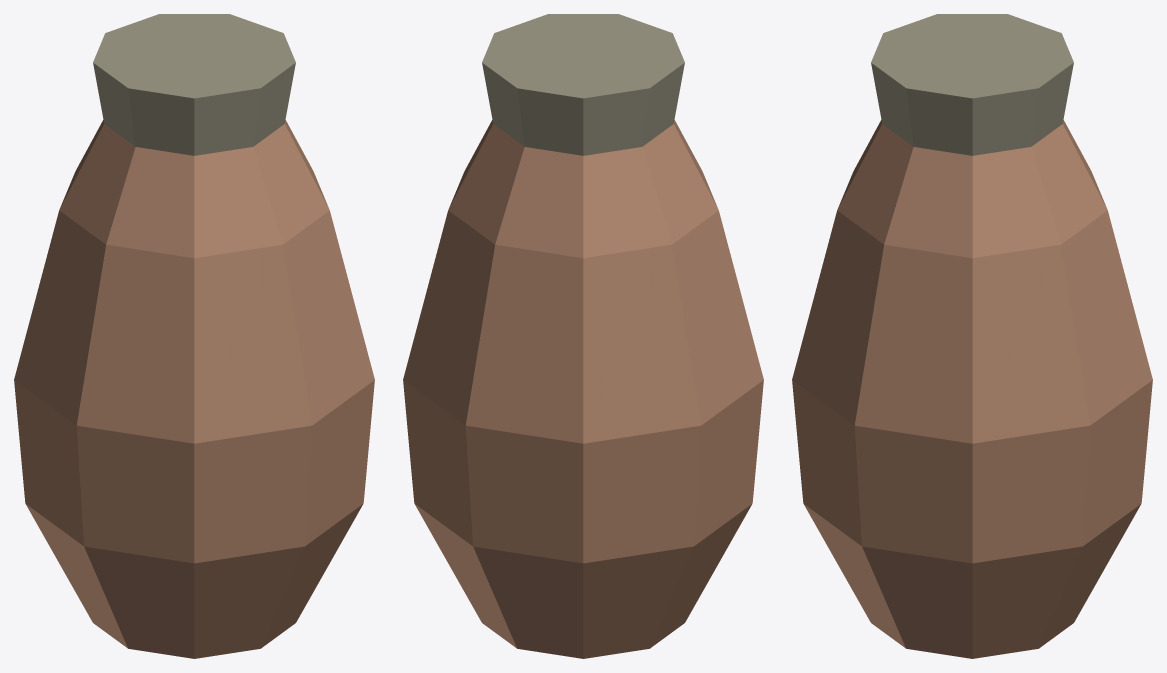
Rendered from pottery_jug_lod1.glb.
3 renders of one model, left to right at view 1: azimuth 30°, elevation 25°; view 2: azimuth 150°, elevation 25°; view 3: azimuth 270°, elevation 25°, orthographic.
Visible parts, largest first — view 1: pottery_jug; view 2: pottery_jug; view 3: pottery_jug.
Boxes of the visible parts, left/top/right/bottom form: pottery_jug: left=14, top=14, right=374, bottom=658; pottery_jug: left=403, top=14, right=763, bottom=658; pottery_jug: left=792, top=14, right=1152, bottom=658.
Bounding box in the file's own units: 0.1552 × 0.27 × 0.1576.
